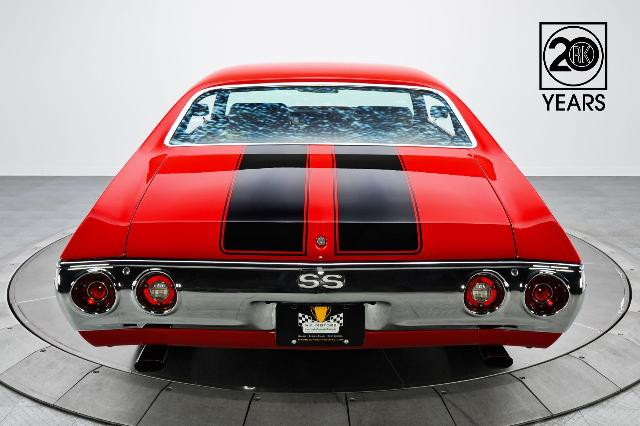chevelle-1972: (54, 63, 586, 371)
